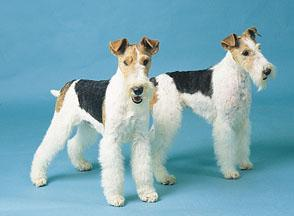wire-haired_fox_terrier: (29, 38, 162, 206), (147, 25, 271, 182)
